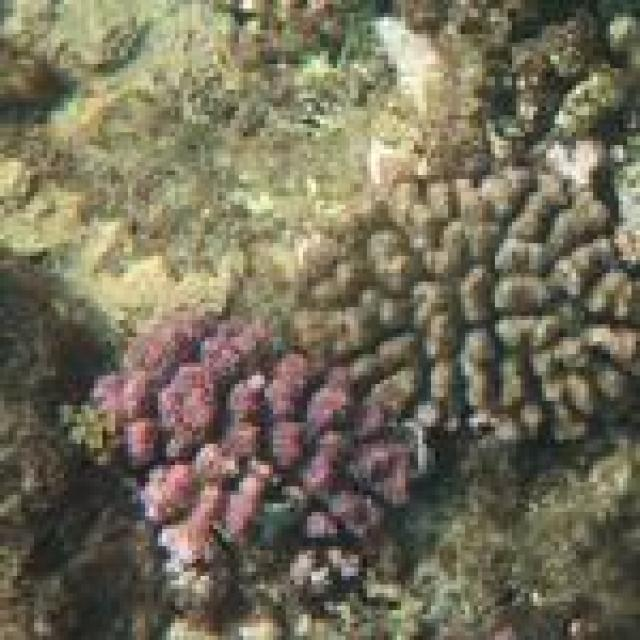Healthy Coral: (322, 177, 640, 462), (102, 305, 393, 592)
